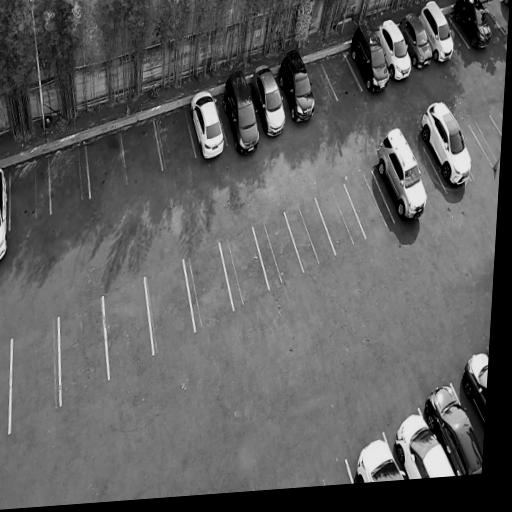Car: (370, 119, 432, 225), (419, 375, 483, 476), (415, 93, 478, 194), (385, 402, 458, 480), (217, 63, 265, 159), (346, 16, 393, 96), (248, 60, 292, 142), (275, 44, 318, 125), (350, 428, 409, 483), (188, 82, 227, 164), (373, 17, 415, 84), (458, 343, 489, 433), (417, 0, 459, 66), (448, 0, 496, 53), (397, 9, 435, 70), (0, 160, 9, 263)
Space Available: (8, 317, 60, 433), (59, 295, 108, 405), (104, 277, 154, 378), (144, 258, 195, 352), (183, 243, 233, 331), (219, 226, 269, 310), (252, 213, 303, 290), (285, 197, 336, 272), (315, 183, 367, 255), (344, 169, 394, 238), (10, 157, 50, 230), (49, 144, 90, 213), (85, 132, 127, 196), (121, 120, 162, 183), (153, 109, 196, 168), (321, 51, 362, 100), (469, 114, 502, 167), (414, 146, 446, 200), (462, 125, 493, 173), (307, 62, 338, 107), (445, 14, 470, 50), (482, 4, 506, 39)
